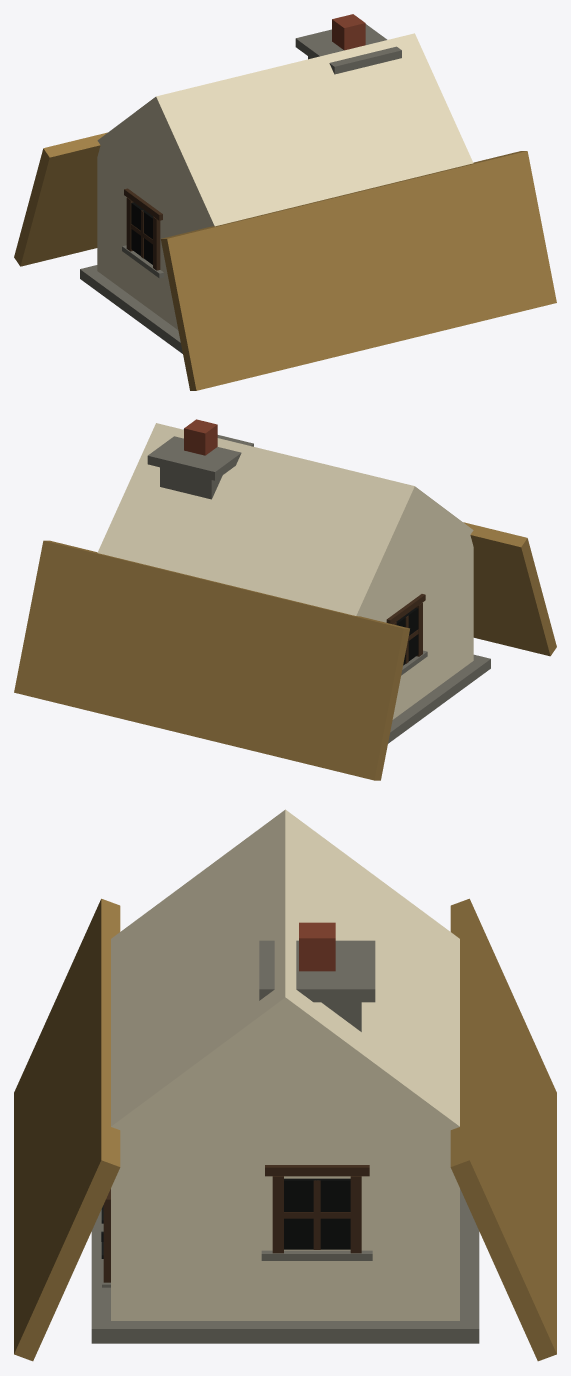
File: house_cottage.obj
3 renders of one model, top to bottom at view 1: azimuth 30°, elevation 25°; view 2: azimuth 150°, elevation 25°; view 3: azimuth 270°, elevation 25°, orthographic. The views are drawn at different scales.
Visible parts, largest first — view 1: house_cottage roof slope, house_cottage walls, house_cottage footing, house_cottage chimney cap, house_cottage chimney pot, house_cottage gable light recess, house_cottage gable light jamb; view 2: house_cottage roof slope, house_cottage walls, house_cottage chimney cap, house_cottage footing, house_cottage chimney stack, house_cottage chimney pot, house_cottage gable light recess; view 3: house_cottage walls, house_cottage roof slope, house_cottage footing, house_cottage chimney cap, house_cottage gable light recess, house_cottage gable light jamb, house_cottage chimney pot, house_cottage gable light lintel, house_cottage gable light sill.
Boxes of the visible parts, left/top/right/bottom form: house_cottage roof slope: left=14, top=132, right=556, bottom=390; house_cottage walls: left=97, top=33, right=473, bottom=329; house_cottage footing: left=80, top=265, right=182, bottom=353; house_cottage chimney cap: left=295, top=24, right=401, bottom=74; house_cottage chimney pot: left=332, top=14, right=365, bottom=50; house_cottage gable light recess: left=131, top=202, right=152, bottom=264; house_cottage gable light jamb: left=126, top=197, right=160, bottom=270; house_cottage roof slope: left=14, top=522, right=556, bottom=780; house_cottage walls: left=97, top=423, right=473, bottom=719; house_cottage chimney cap: left=147, top=429, right=253, bottom=480; house_cottage footing: left=388, top=654, right=490, bottom=743; house_cottage chimney stack: left=160, top=467, right=222, bottom=499; house_cottage chimney pot: left=184, top=419, right=217, bottom=455; house_cottage gable light recess: left=396, top=607, right=418, bottom=665; house_cottage walls: left=111, top=809, right=459, bottom=1320; house_cottage roof slope: left=14, top=898, right=556, bottom=1361; house_cottage footing: left=91, top=1189, right=479, bottom=1343; house_cottage chimney cap: left=259, top=940, right=375, bottom=1002; house_cottage gable light recess: left=284, top=1178, right=350, bottom=1249; house_cottage gable light jamb: left=272, top=1176, right=361, bottom=1253; house_cottage chimney pot: left=299, top=922, right=335, bottom=971; house_cottage gable light lintel: left=265, top=1165, right=369, bottom=1176; house_cottage gable light sill: left=261, top=1250, right=372, bottom=1260.
Size of the model in its own units: 780 by 507 by 684.
